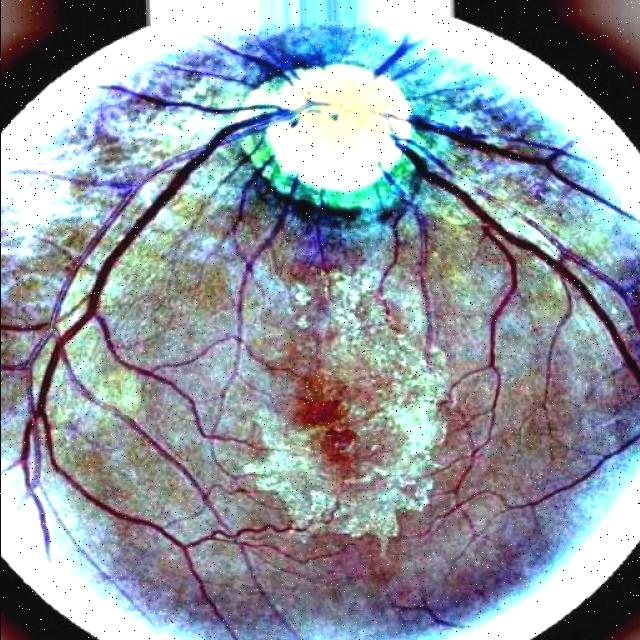Macula: (272, 364, 381, 482)
Nerves: (33, 115, 245, 433), (423, 172, 624, 334), (428, 118, 604, 212)
Optic Disk: (239, 60, 416, 199)
